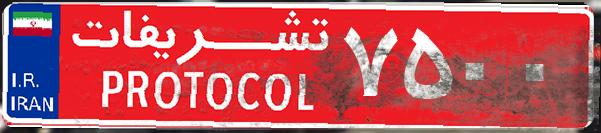0: (460, 20, 520, 115), (520, 20, 580, 115)
5: (400, 20, 460, 115)
7: (340, 20, 400, 115)
تشریفات: (60, 8, 340, 125)
